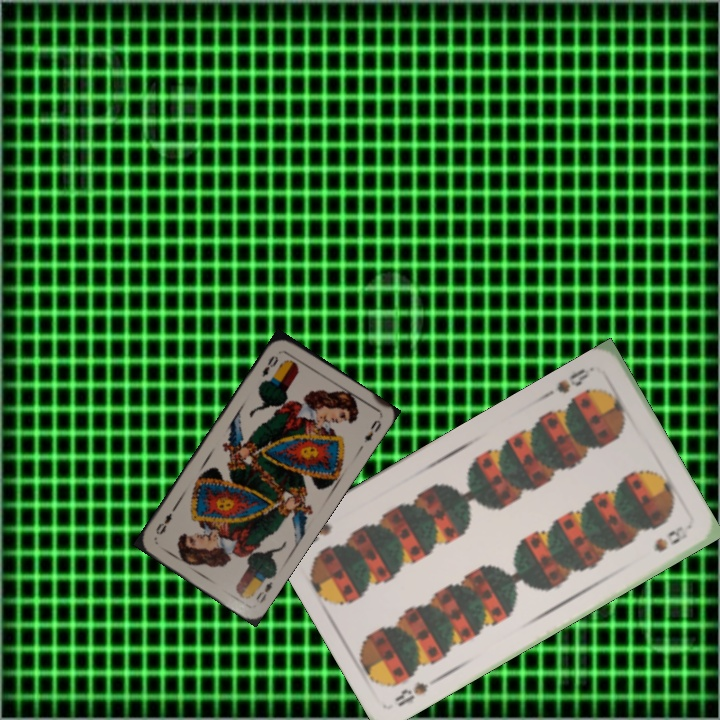EO: (252, 577, 275, 605), (258, 352, 281, 379)
S8: (390, 672, 443, 710), (552, 364, 593, 396)
